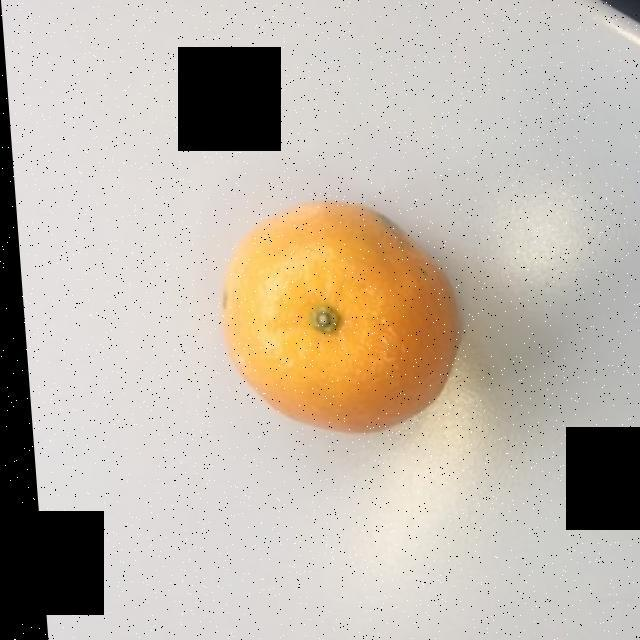mandarine: (217, 203, 450, 434)
